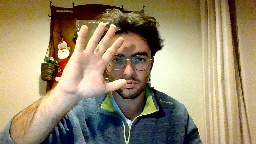Mano_aperta: (58, 20, 128, 100)
